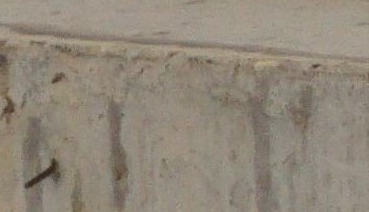Exposed reinforcement: (24, 162, 56, 190)
